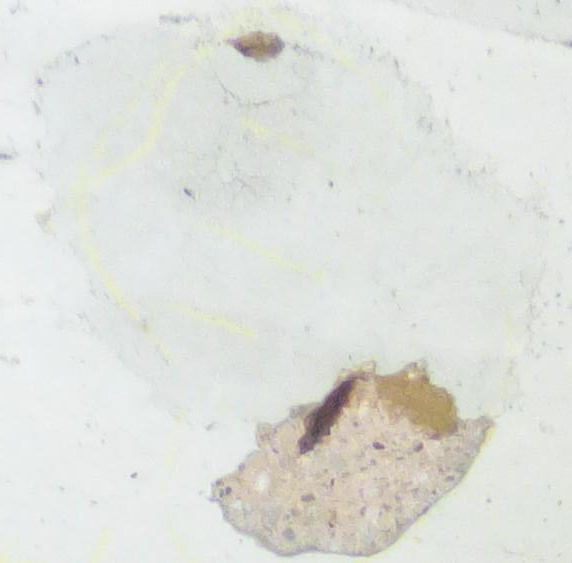Exposed reinforcement: (295, 375, 354, 458)
Spalling: (205, 362, 493, 558), (222, 28, 286, 63)
